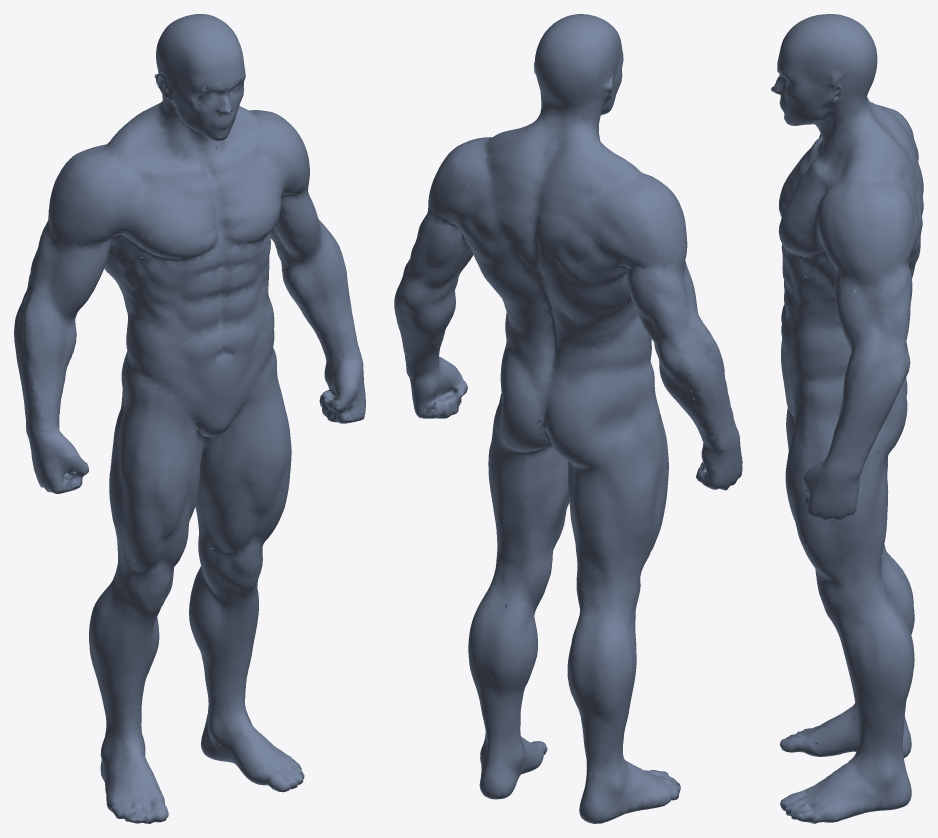
The model's file is male_body.glb.
3 renders of one model, left to right at view 1: azimuth 30°, elevation 25°; view 2: azimuth 150°, elevation 25°; view 3: azimuth 270°, elevation 25°, orthographic.
Bounding box in the file's own units: 1.37 × 3.1 × 0.5595.
